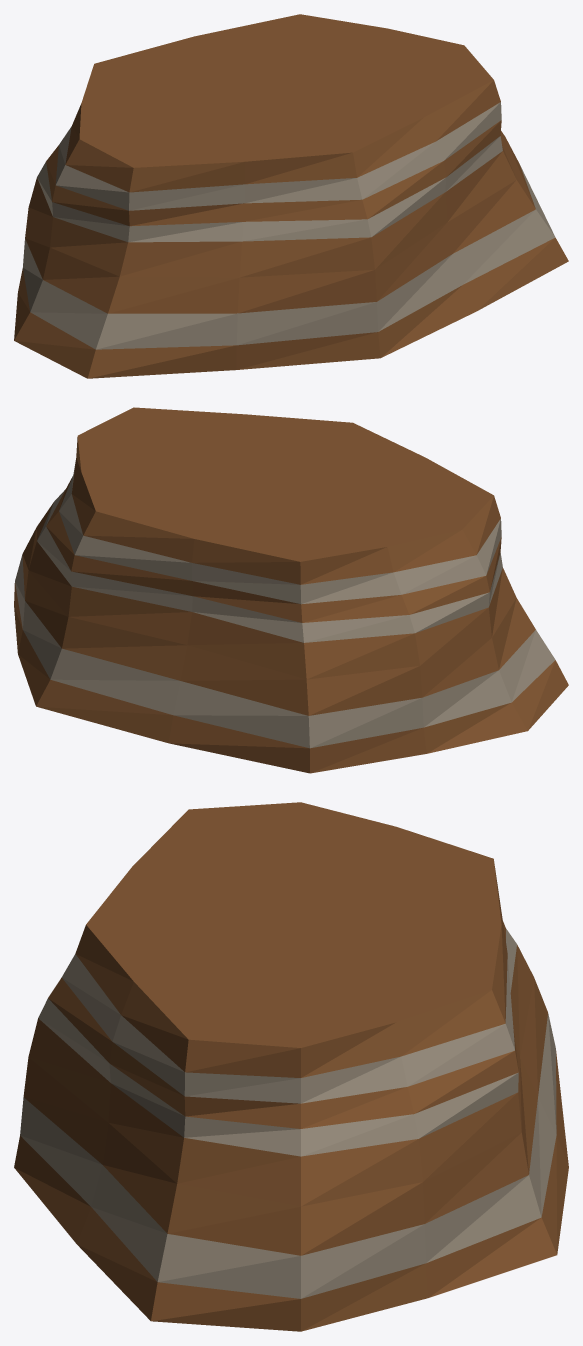
File: mia-mesa.glb
3 renders of one model, top to bottom at view 1: azimuth 30°, elevation 25°; view 2: azimuth 150°, elevation 25°; view 3: azimuth 270°, elevation 25°, orthographic. The views are drawn at different scales.
Visible parts, largest first — view 1: Body_oak, Body_mattress-seam; view 2: Body_oak, Body_mattress-seam; view 3: Body_oak, Body_mattress-seam.
Part boxes in pixels (box(x1,y1,x2,y2)): Body_oak: box(14, 14, 568, 378); Body_mattress-seam: box(23, 102, 555, 349); Body_oak: box(14, 407, 568, 773); Body_mattress-seam: box(15, 460, 555, 748); Body_oak: box(14, 802, 568, 1331); Body_mattress-seam: box(20, 928, 556, 1298).
Bounding box in the file's own units: 11.59 × 4 × 8.28.
